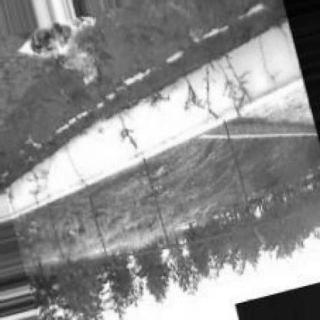Fire: (28, 26, 110, 98)
